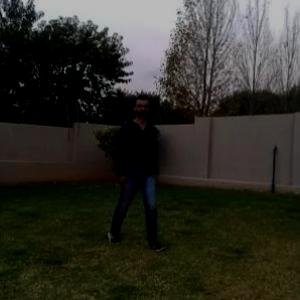follow: (127, 101, 160, 232)
